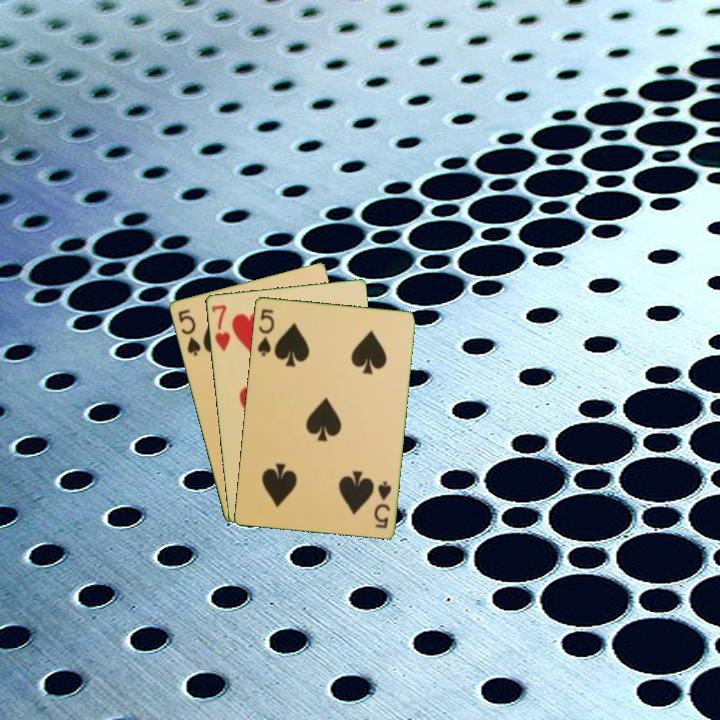5s: (174, 305, 203, 359), (370, 477, 394, 531), (254, 305, 277, 359)
7h: (208, 301, 233, 354)
